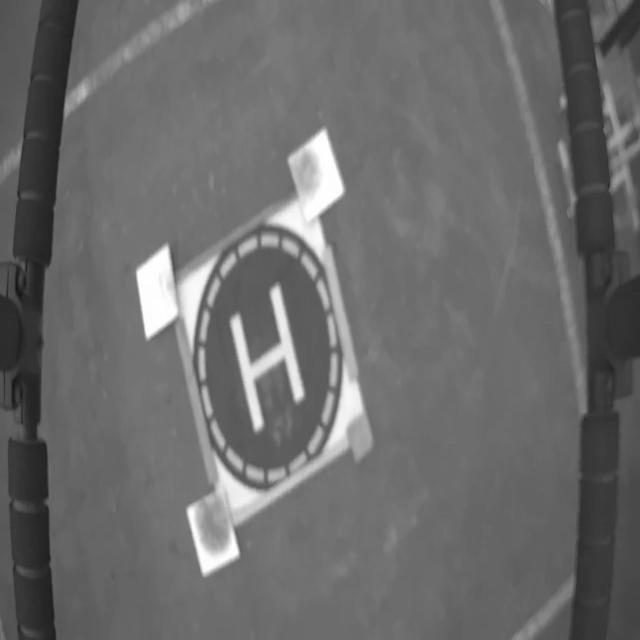Helipad: (230, 285, 306, 436)
